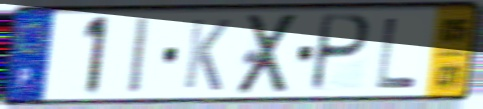1: (80, 13, 113, 99)
I: (126, 14, 152, 97)
K: (180, 16, 233, 94)
L: (373, 15, 421, 92)
P: (307, 12, 373, 95)
X: (233, 11, 303, 98)
